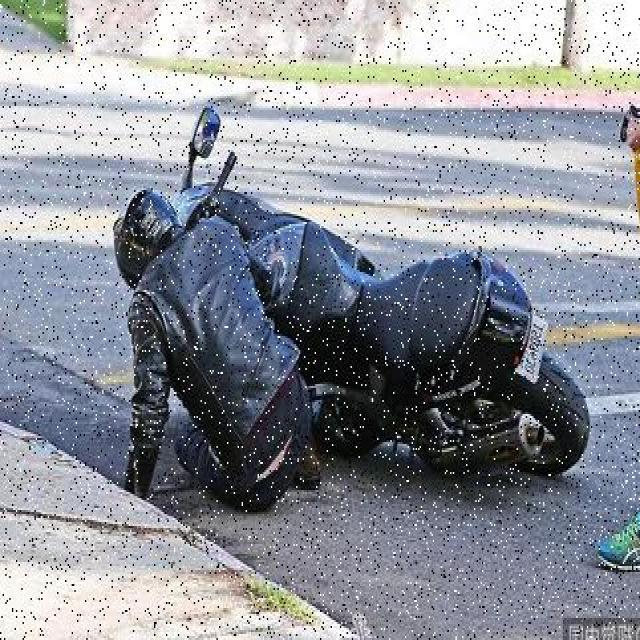fall: (98, 184, 326, 494)
